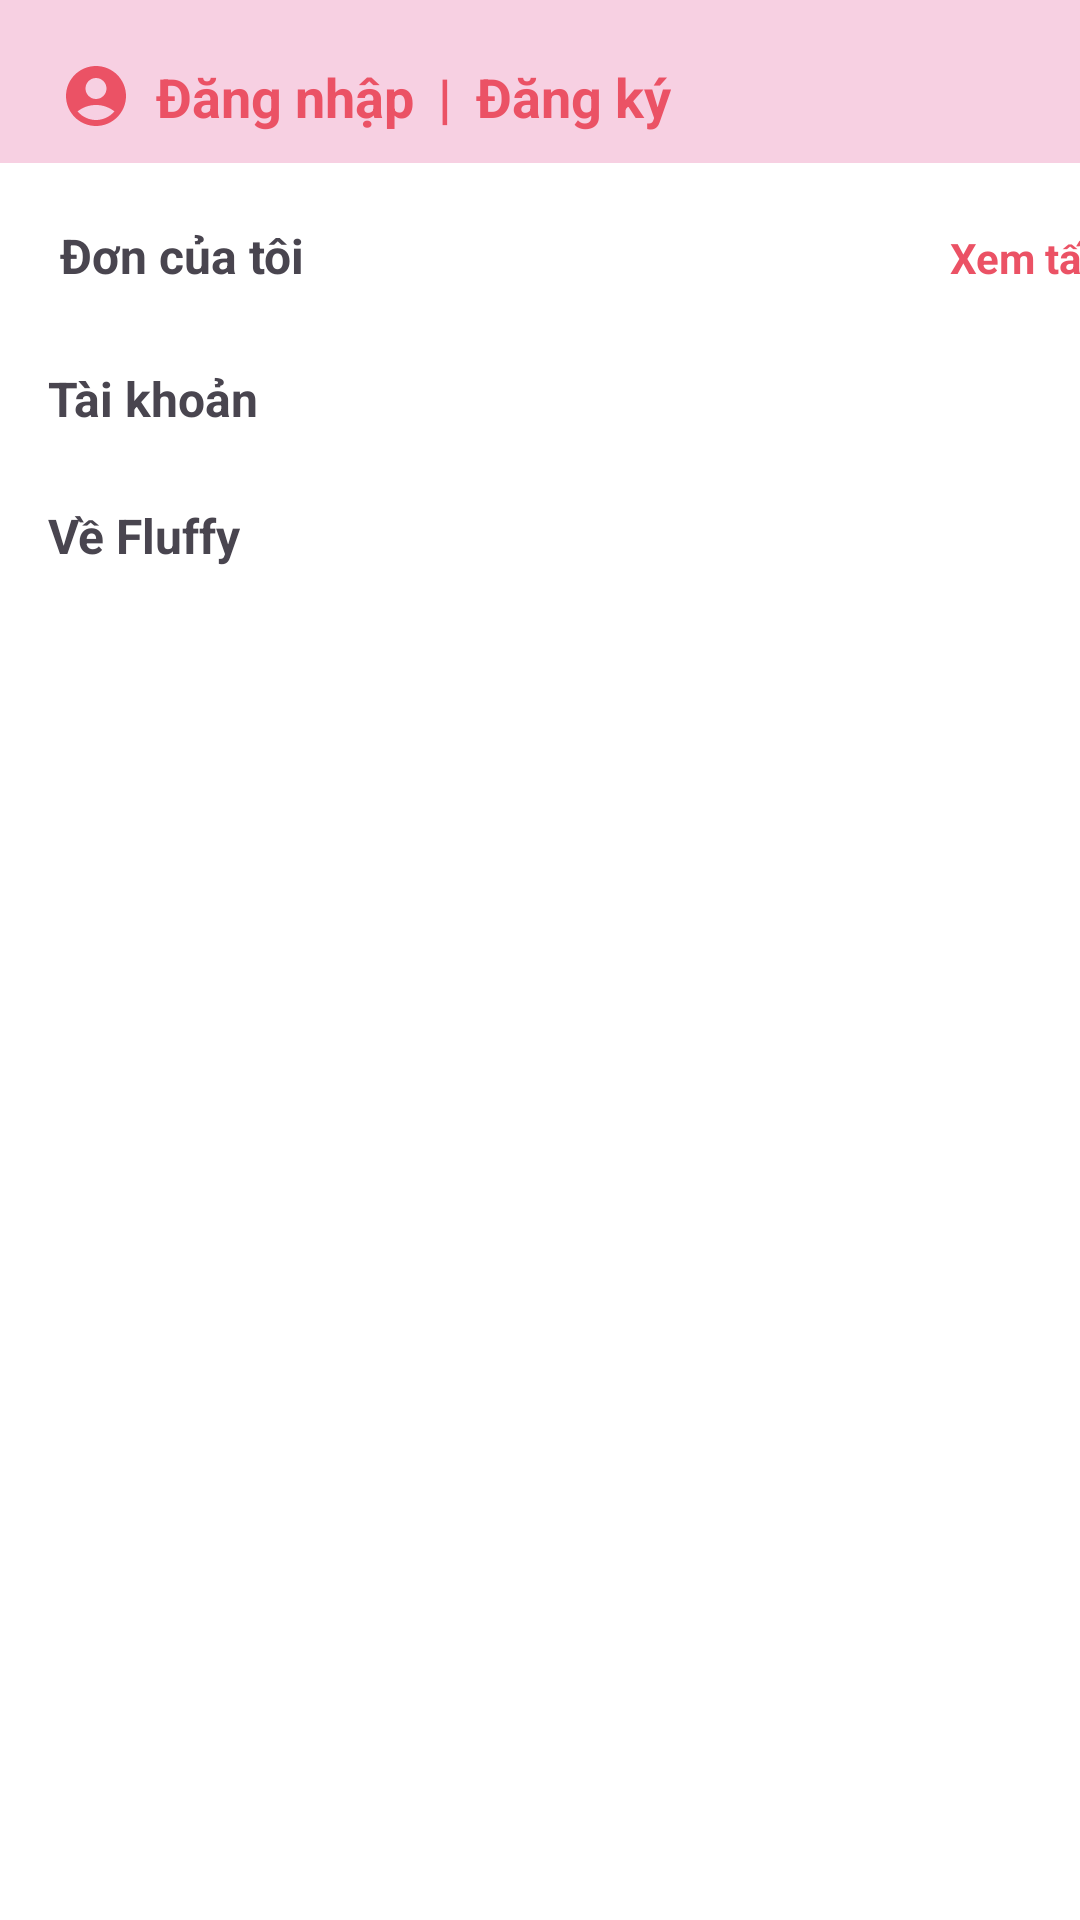

Named icons in this screenshot (1080*1920) and their bounding boxes, bbox=[x1, y1, x2, y2]:
account: bbox=[66, 66, 126, 126]
